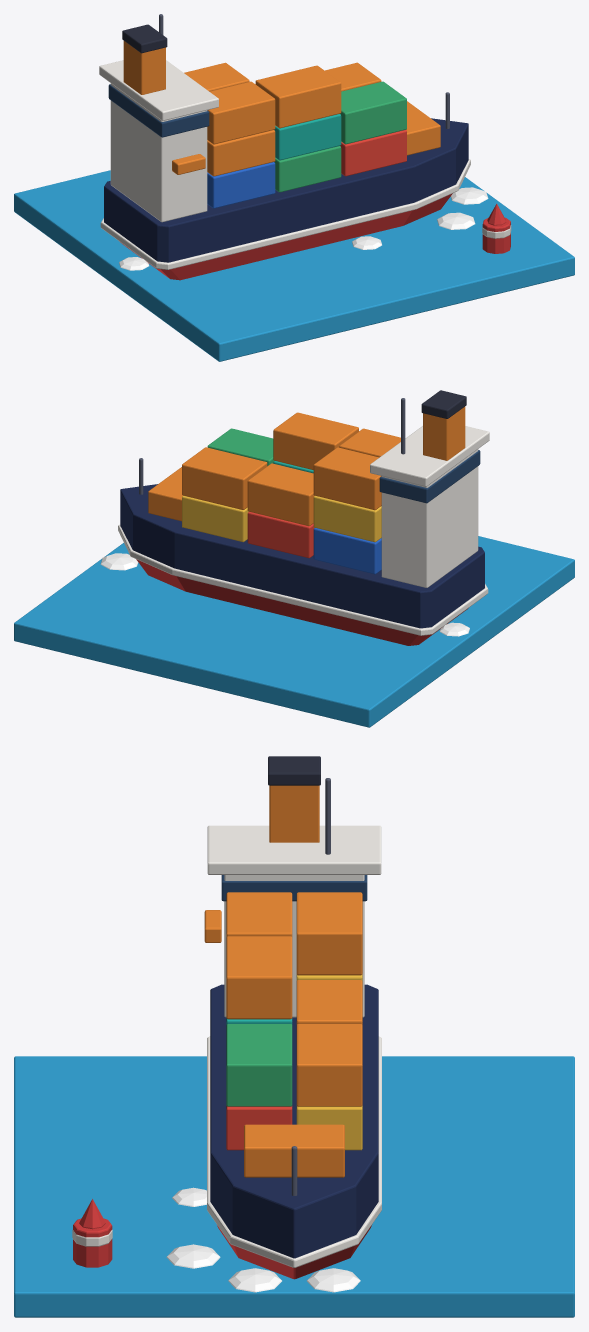
File: ship.glb
3 views of the same model, one above another, from view 1: azimuth 30°, elevation 25°; view 2: azimuth 150°, elevation 25°; view 3: azimuth 270°, elevation 25° (orthographic). The views are drawn at different scales.
Visible parts, largest first — view 1: Ship; view 2: Ship; view 3: Ship.
Part boxes in pixels (x1,y1,x2,y2): Ship: [14, 14, 574, 361]; Ship: [14, 390, 574, 727]; Ship: [14, 756, 574, 1317].
Bounding box in the file's own units: 2 × 1.34 × 2.
